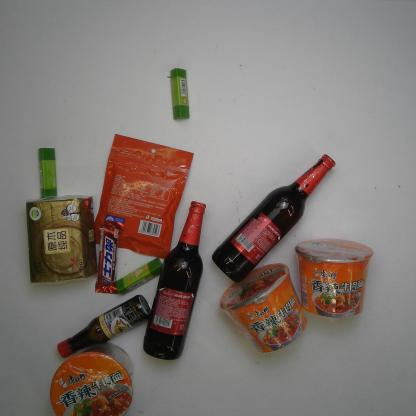Alcohol: (212, 154, 336, 283), (142, 200, 206, 360)
Chocolate: (93, 220, 121, 294)
Dried Fruit: (90, 132, 194, 258)
Instant Noodles: (218, 262, 307, 355), (292, 238, 374, 319), (50, 343, 136, 414)
Seasoner: (56, 295, 151, 358)
Stationery: (114, 258, 165, 294), (168, 67, 192, 121), (37, 147, 58, 198)
Tissue: (26, 194, 99, 284)
